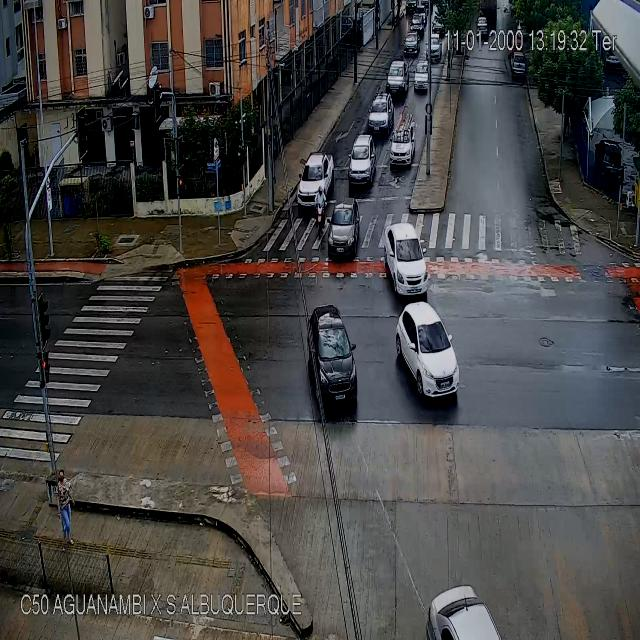Car: (397, 302, 461, 398), (306, 305, 358, 406), (426, 585, 504, 639), (384, 222, 428, 299), (328, 200, 359, 259), (299, 153, 332, 207), (350, 134, 375, 184), (390, 123, 416, 164), (368, 95, 394, 130), (385, 58, 409, 95), (511, 50, 527, 80), (414, 62, 428, 94), (426, 36, 441, 62), (404, 34, 420, 54), (475, 16, 489, 37), (432, 15, 444, 35), (412, 14, 425, 32)
Truck: (480, 1, 499, 24)
